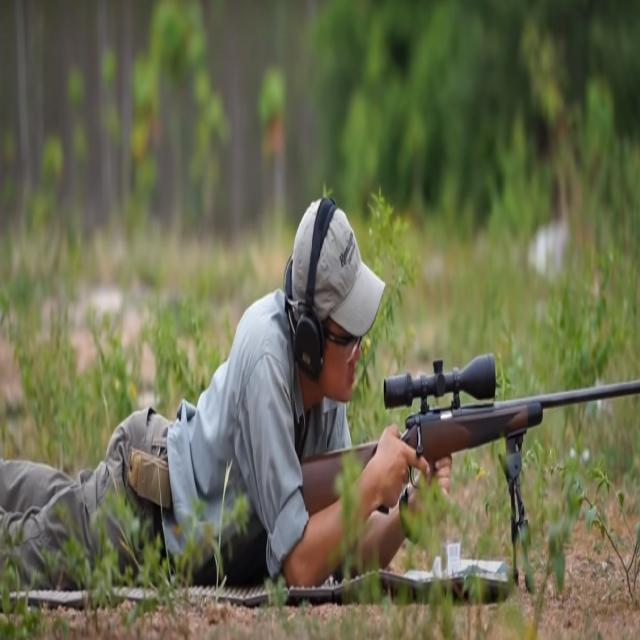rifle: (288, 324, 640, 538)
